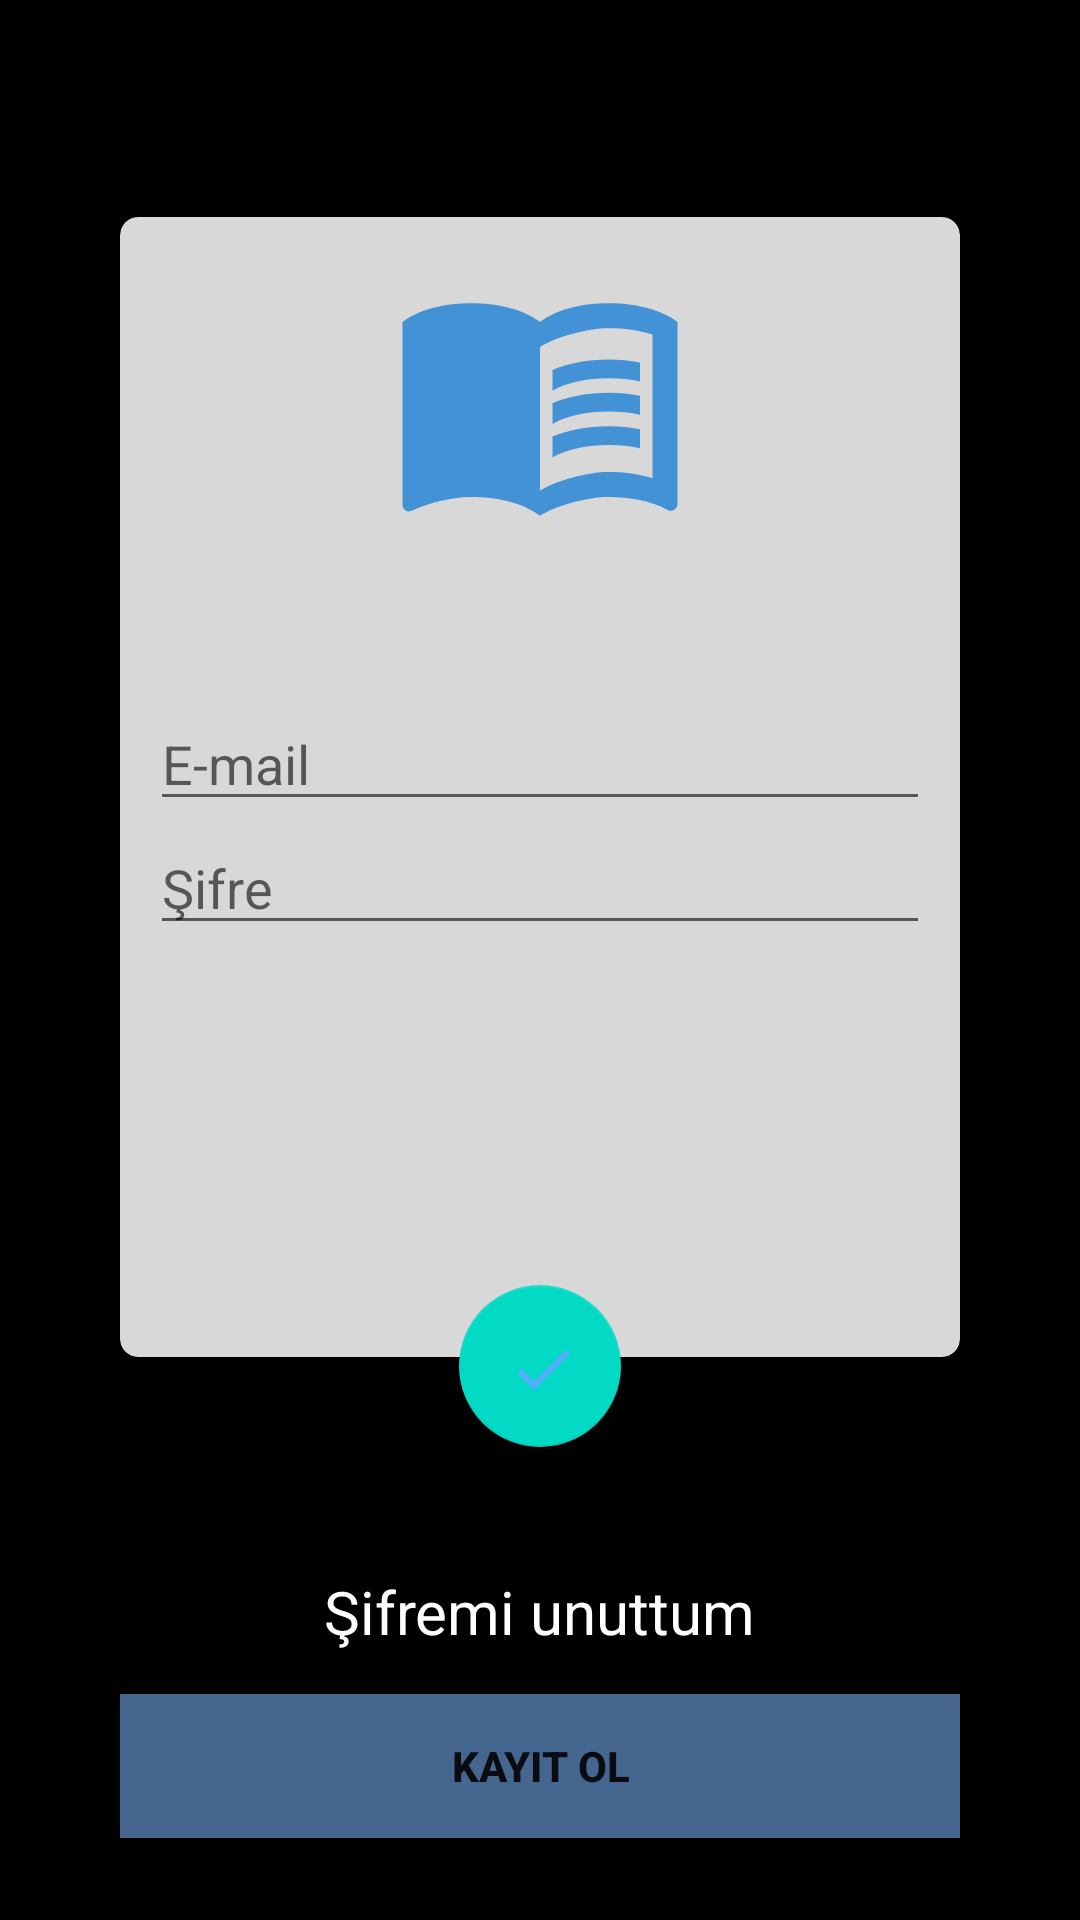

Named icons in this screenshot (1080w x 1920h) and their centers, point (x, y):
book: point (540, 409)
done: point (540, 1366)
